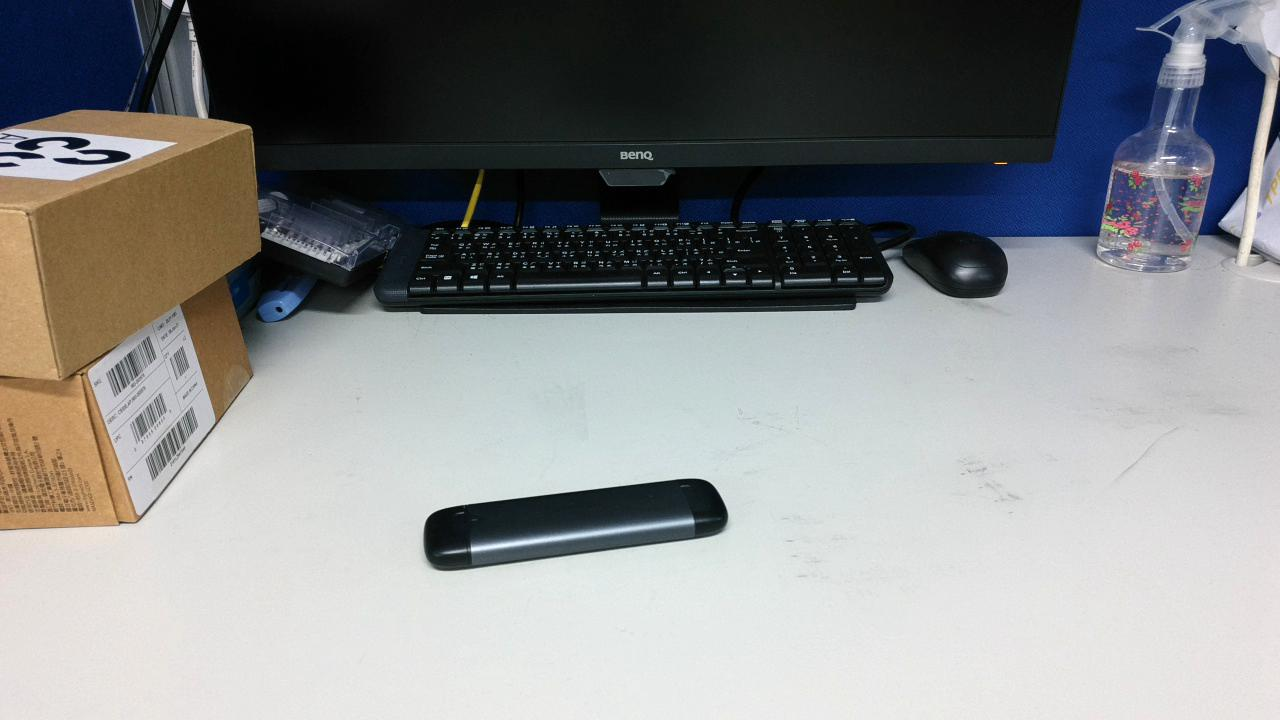circle: (1032, 524, 1216, 631)
